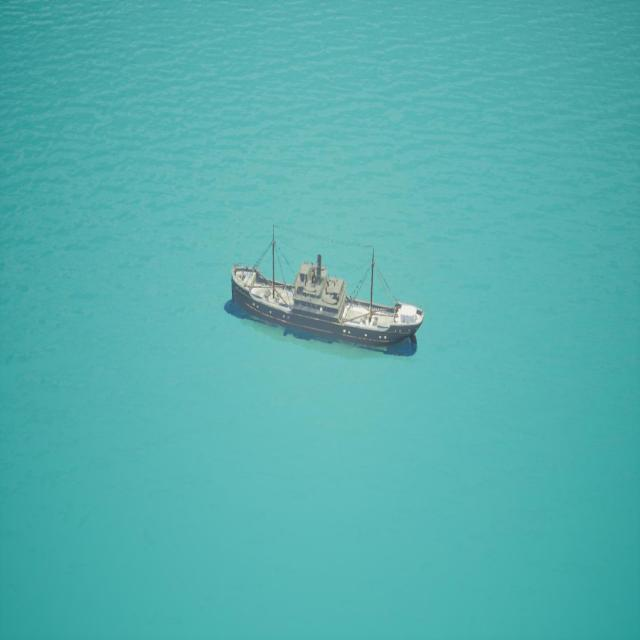fishing ship: (231, 231, 425, 357)
